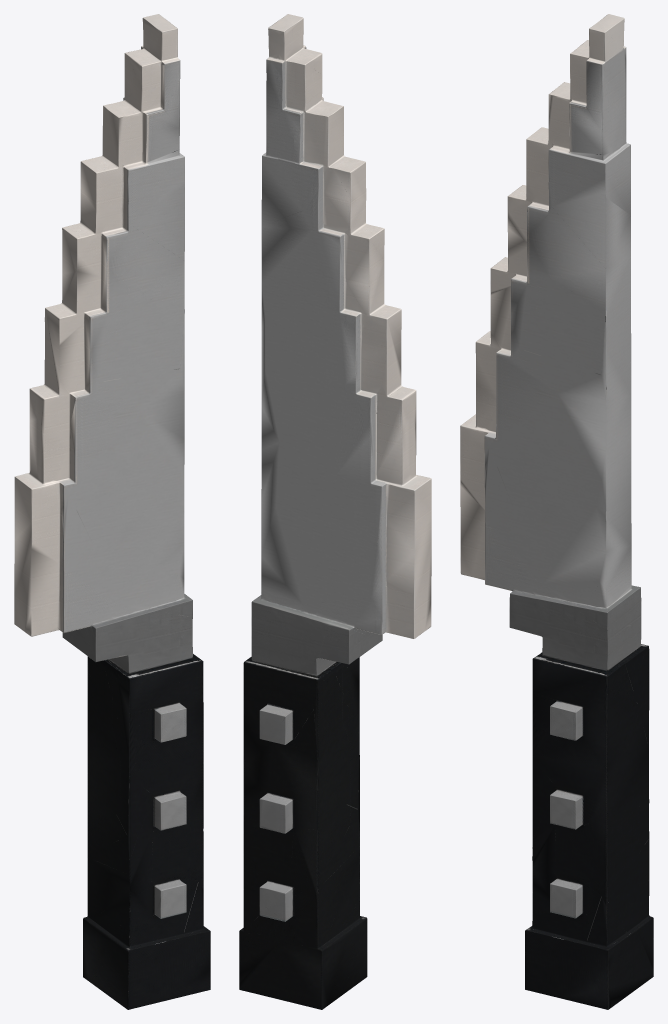
Rendered from Knife.fbx.
The picture shows the model from 3 angles, left to right: view 1: azimuth 30°, elevation 25°; view 2: azimuth 150°, elevation 25°; view 3: azimuth 330°, elevation 25°; orthographic projection.
Parts seen in each view (by area): view 1: Mesh_0; view 2: Mesh_0; view 3: Mesh_0.
Part boxes in pixels (bbox=[...]): Mesh_0: bbox=[14, 14, 210, 1009]; Mesh_0: bbox=[239, 14, 431, 1009]; Mesh_0: bbox=[460, 14, 653, 1009].
Size of the model in its own units: 33.97 by 190 by 20.59.
1 material, 1 textured.
